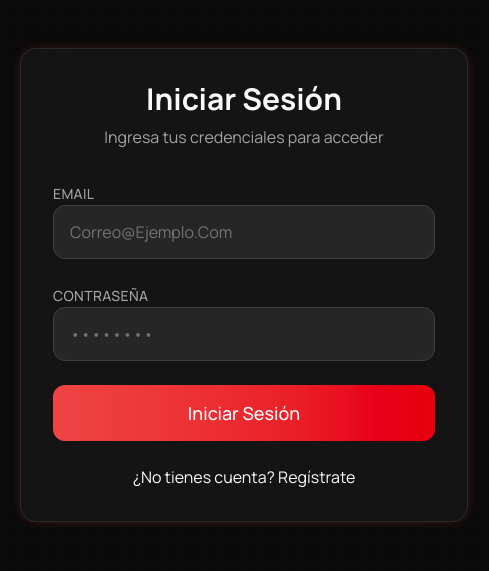
LoginForm › shows validation errors for empty fields
This screenshot has width=489, height=571.
Click the button "Iniciar Sesión" at x=244, y=413, box [53, 385, 435, 441]
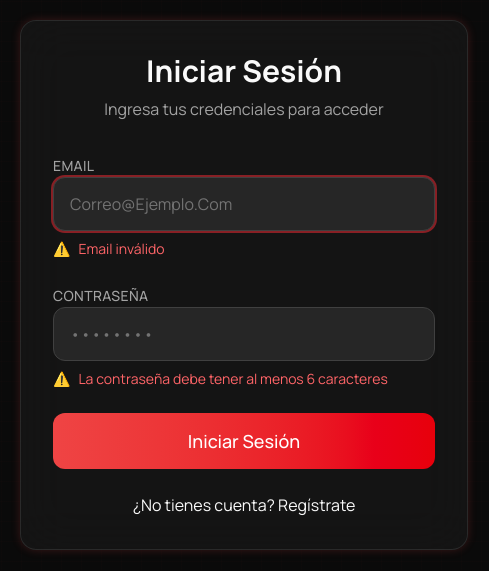
Now the text "Email inválido" is shown, box [78, 239, 165, 258]
Now the text "La contraseña debe tener al menos 6 caracteres" is shown, box [78, 369, 388, 388]
